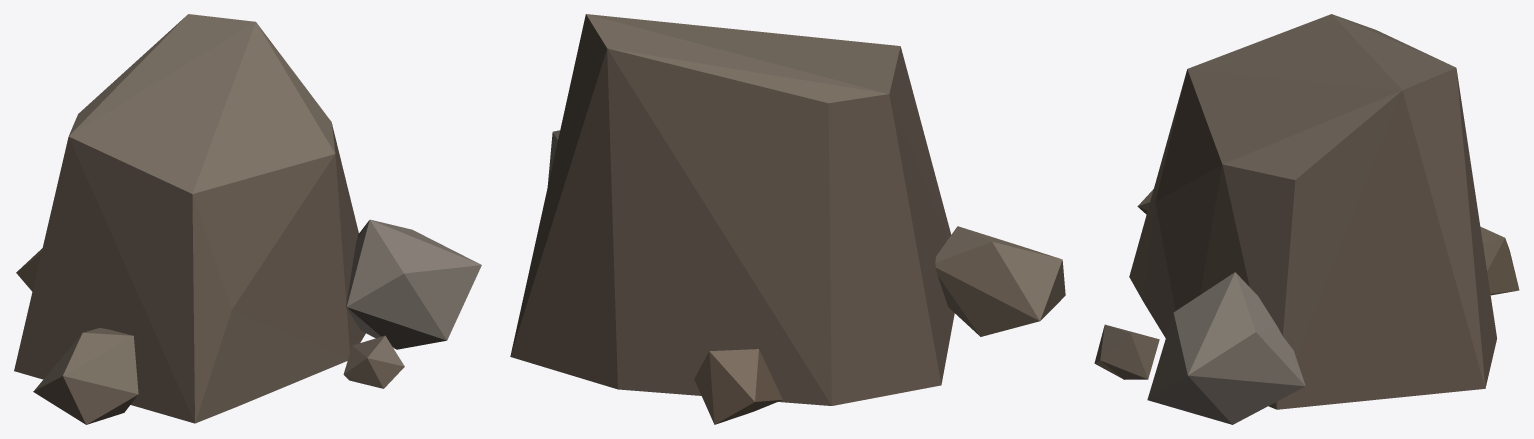
The model's file is tl_env_rock_cluster_a_v01.glb.
3 renders of one model, left to right at view 1: azimuth 30°, elevation 25°; view 2: azimuth 150°, elevation 25°; view 3: azimuth 270°, elevation 25°, orthographic. The views are drawn at different scales.
Parts seen in each view (by area): view 1: tl_env_rock_cluster_a_v01; view 2: tl_env_rock_cluster_a_v01; view 3: tl_env_rock_cluster_a_v01.
Part boxes in pixels (x1,y1,x2,y2): tl_env_rock_cluster_a_v01: [14, 14, 481, 424]; tl_env_rock_cluster_a_v01: [510, 14, 1065, 424]; tl_env_rock_cluster_a_v01: [1094, 14, 1519, 424].
Bounding box in the file's own units: 4.13 × 2.44 × 3.29.
